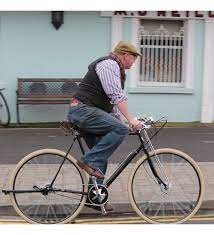Bicycle: (12, 125, 204, 224)
